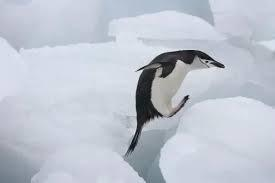chinstrap: (83, 31, 223, 132)
